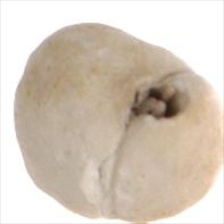L3: (125, 71, 190, 124)
L4: (13, 23, 222, 222)
